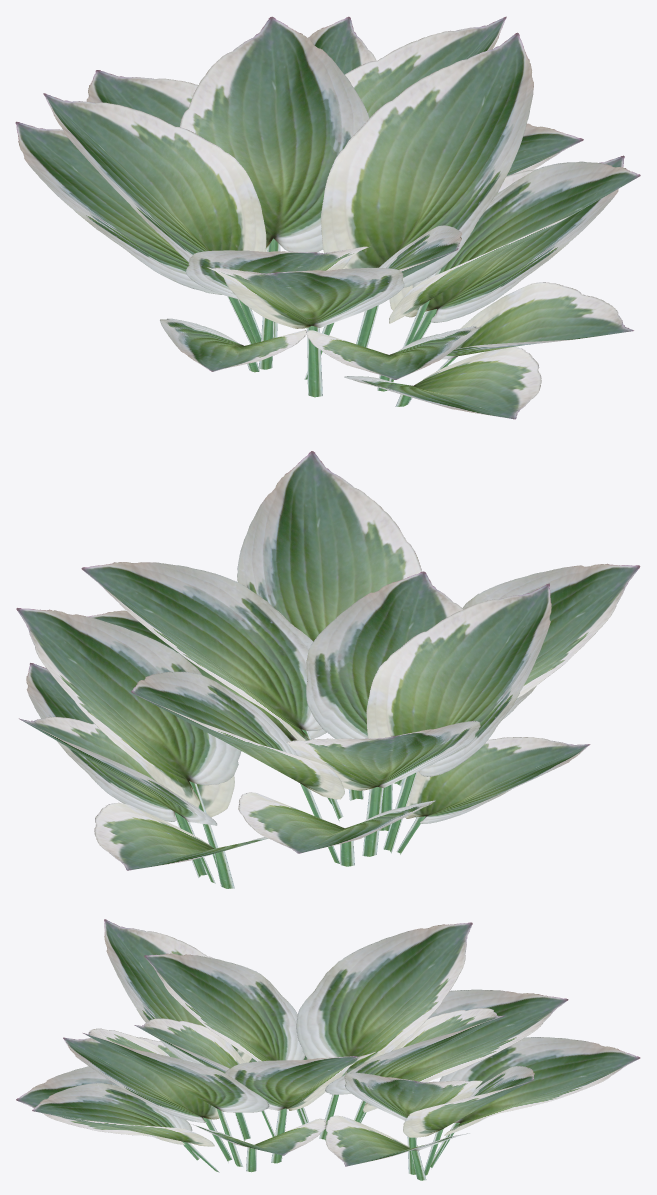
File: plant_small_wg_04P.fbx
3 views of the same model, one above another, from view 1: azimuth 30°, elevation 25°; view 2: azimuth 150°, elevation 25°; view 3: azimuth 270°, elevation 25° (orthographic). The views are drawn at different scales.
Visible parts, largest first — view 1: plant_small_wg_04P; view 2: plant_small_wg_04P; view 3: plant_small_wg_04P.
Part boxes in pixels (<box>): plant_small_wg_04P: <box>15,16,640,419</box>; plant_small_wg_04P: <box>16,451,640,888</box>; plant_small_wg_04P: <box>16,919,640,1180</box>.
Size of the model in its own units: 126 by 62.02 by 187.
